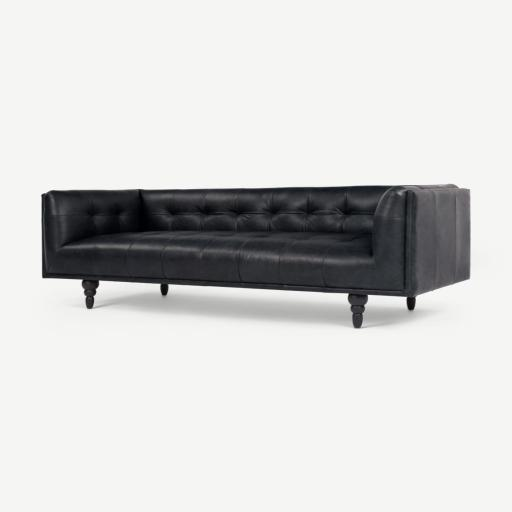back_cushion: (88, 186, 388, 234)
left_arm: (409, 189, 469, 294)
legs: (348, 294, 367, 328), (83, 282, 98, 309), (407, 298, 415, 310), (161, 285, 168, 294)
one-seater: (42, 184, 469, 328)
right_arm: (42, 190, 141, 276)
seat_cushion: (47, 228, 372, 288)
